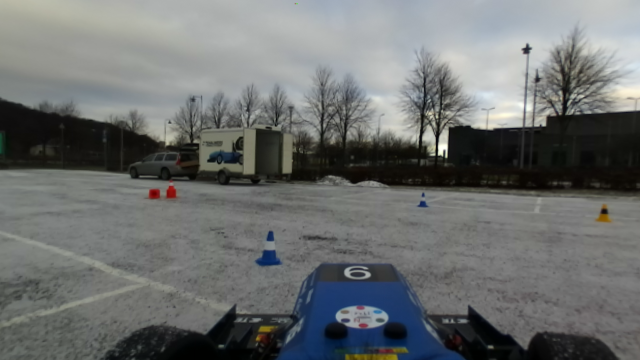blue: (254, 229, 284, 268)
yellow: (592, 200, 614, 223)
